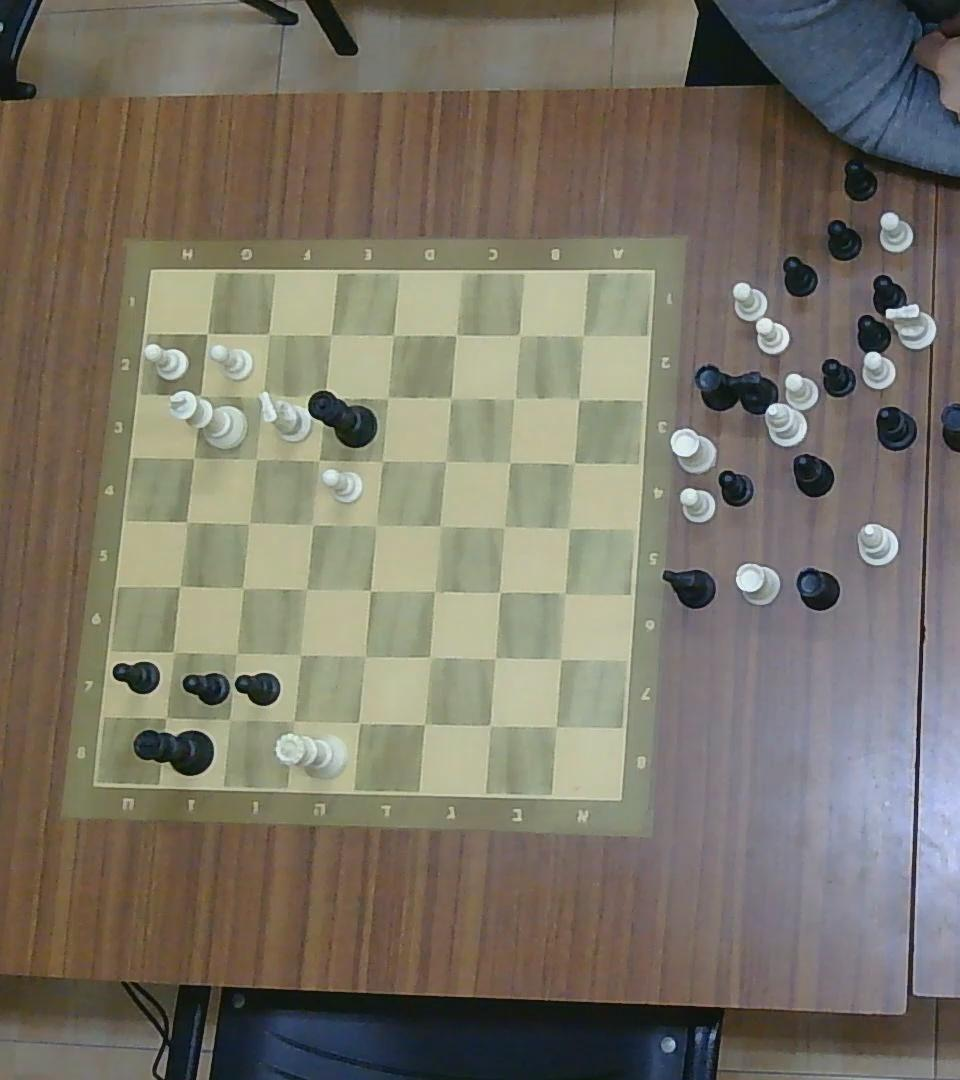xcorner: (477, 712, 503, 739), (542, 714, 569, 739), (247, 383, 272, 409), (412, 711, 437, 736), (418, 645, 442, 670), (281, 708, 305, 732), (482, 647, 506, 671), (347, 710, 371, 734), (353, 644, 376, 668), (288, 642, 311, 666), (154, 705, 178, 728), (319, 324, 341, 346), (218, 709, 240, 731), (439, 387, 461, 408), (371, 449, 392, 471), (163, 642, 185, 663), (225, 642, 246, 663), (429, 515, 449, 537), (549, 648, 571, 668), (445, 324, 465, 346), (188, 386, 210, 406), (376, 387, 396, 408), (366, 514, 386, 535), (488, 582, 509, 602), (423, 581, 443, 602), (499, 450, 519, 471), (170, 576, 190, 597), (296, 577, 315, 599), (183, 447, 203, 467), (555, 582, 575, 602), (559, 518, 579, 538), (383, 325, 403, 345), (247, 448, 266, 469), (302, 514, 321, 534), (435, 450, 454, 470), (361, 580, 380, 600), (198, 322, 217, 342), (309, 450, 328, 470), (177, 511, 196, 531), (259, 324, 278, 344), (232, 579, 252, 598), (315, 386, 334, 406), (240, 513, 259, 532), (510, 326, 529, 345), (495, 516, 513, 536), (505, 388, 523, 407), (564, 453, 583, 471), (573, 326, 591, 345), (572, 390, 588, 406)
